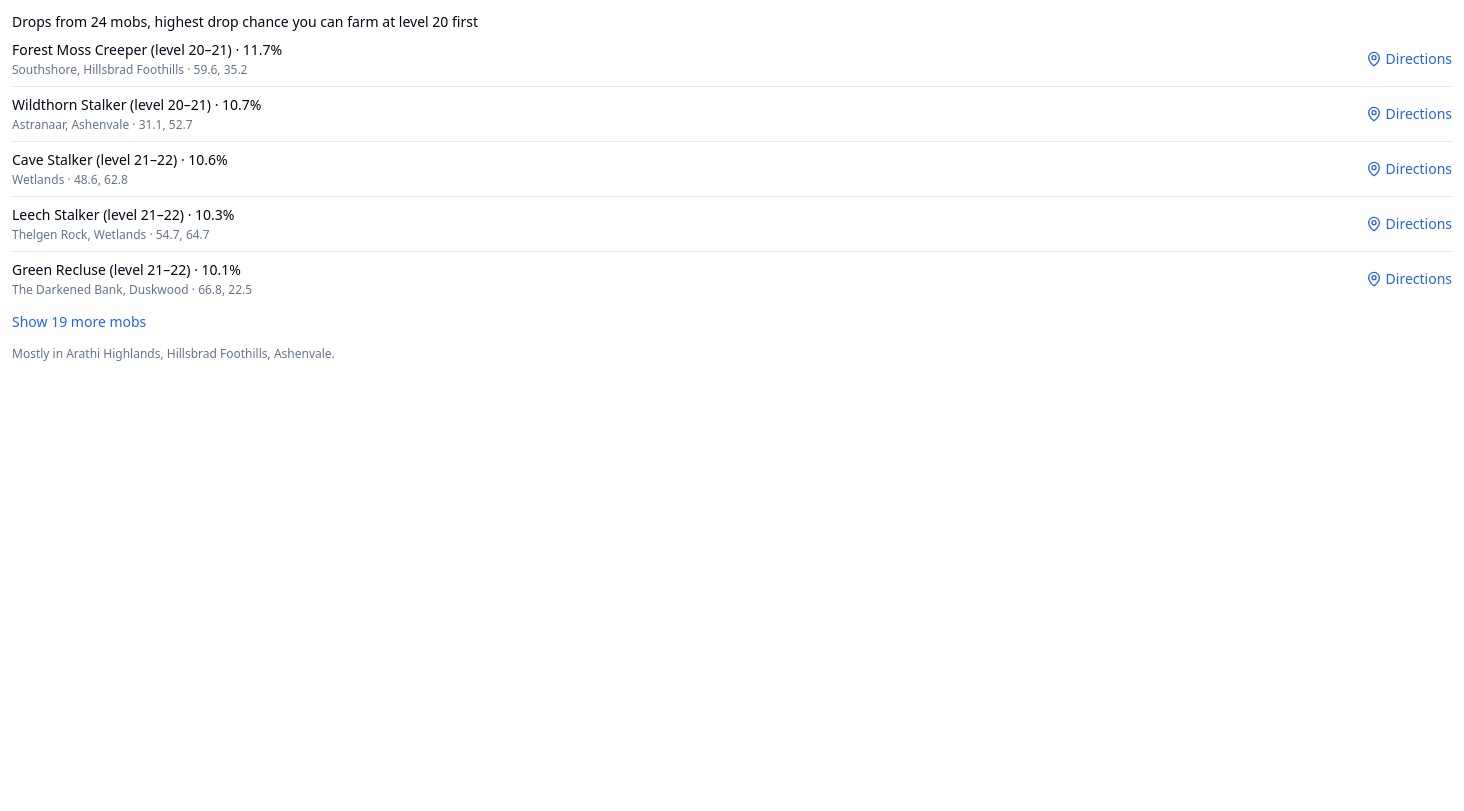
crafting material sources › shows five mobs, then all of them, marking the ones too high for you
Check: the number of list items is 5, box [12,40,1452,78]; [12,86,1452,133]; [12,141,1452,188]; [12,196,1452,243]; [12,251,1452,298]
Click the button "Show 19 more mobs".
click(79, 322)  # box [12,306,146,338]
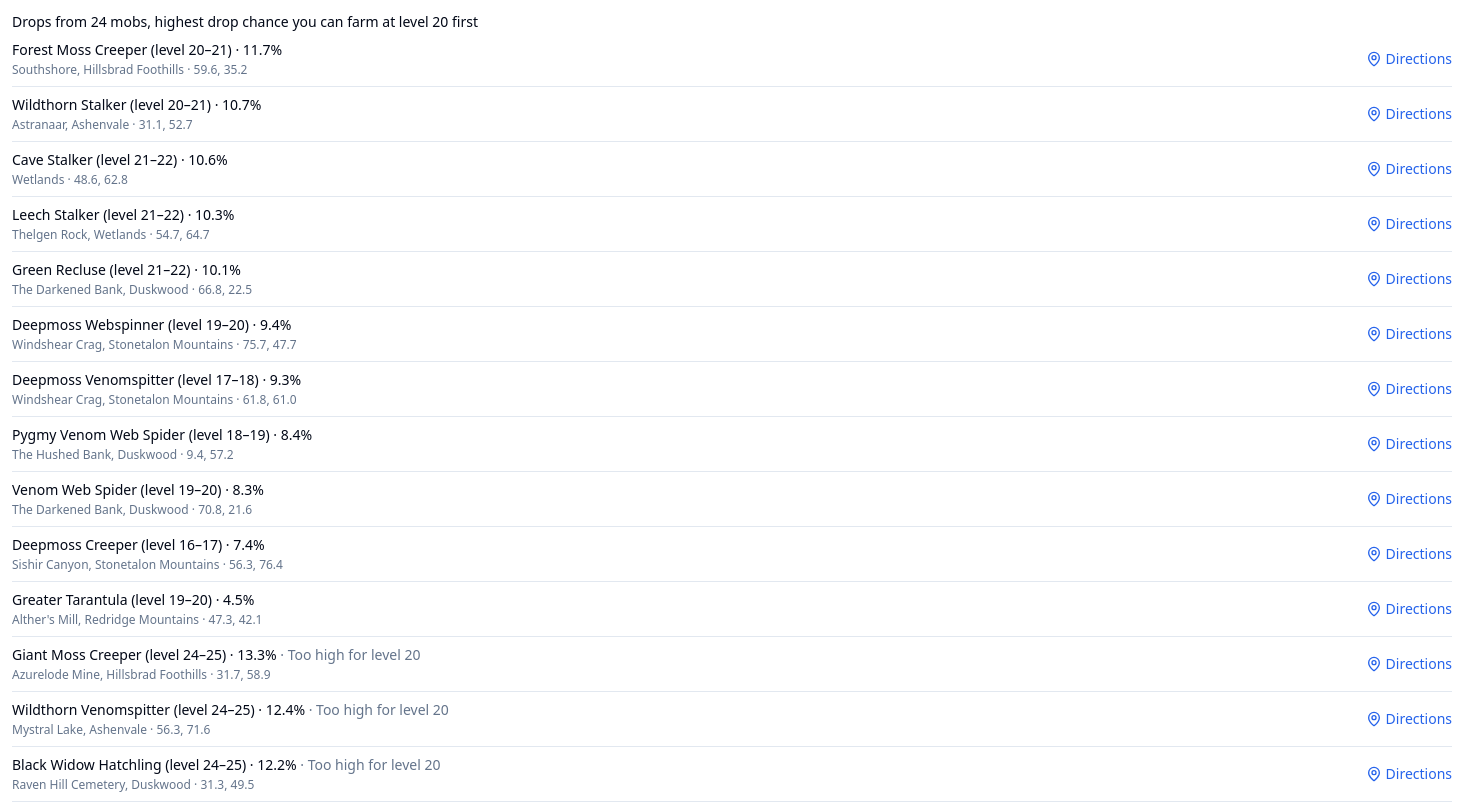
Check: the number of list items is 24
Check: the text "Too high for level 20" is shown, box [288,645,420,664]
